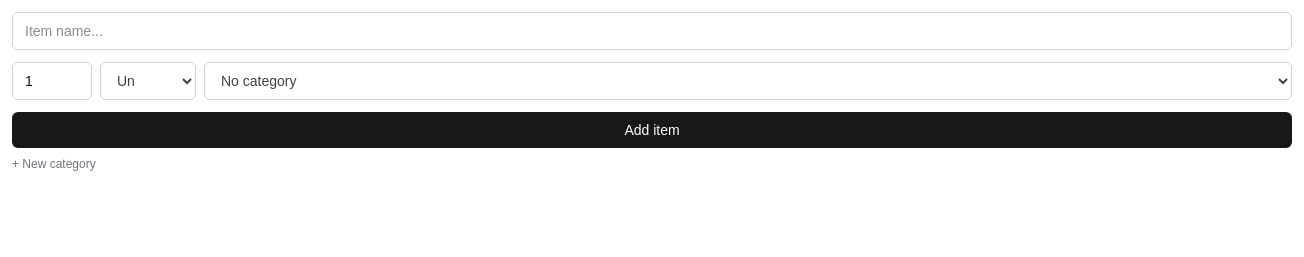
Scenario: AddItemForm › shows CreateCategoryForm when + New category is clicked
Click the button "+ New category" at coordinates (54, 164), box [12,156,96,172]
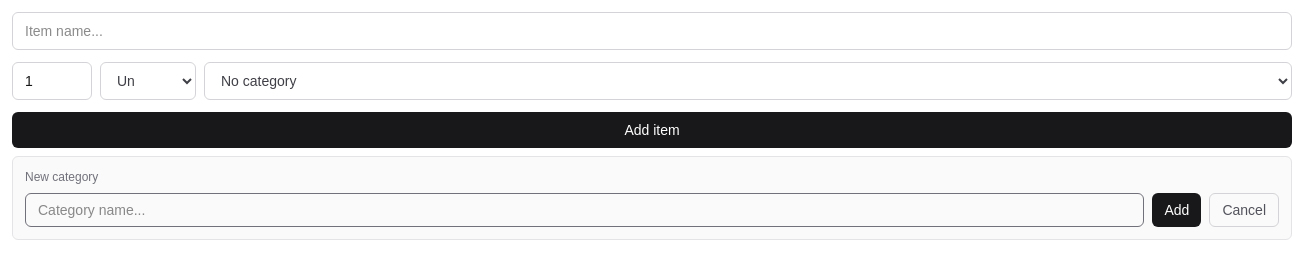
Expected: the field with placeholder "Category name..." is shown, [25,193,1144,227]
Expected: the button "+ New category" is gone
